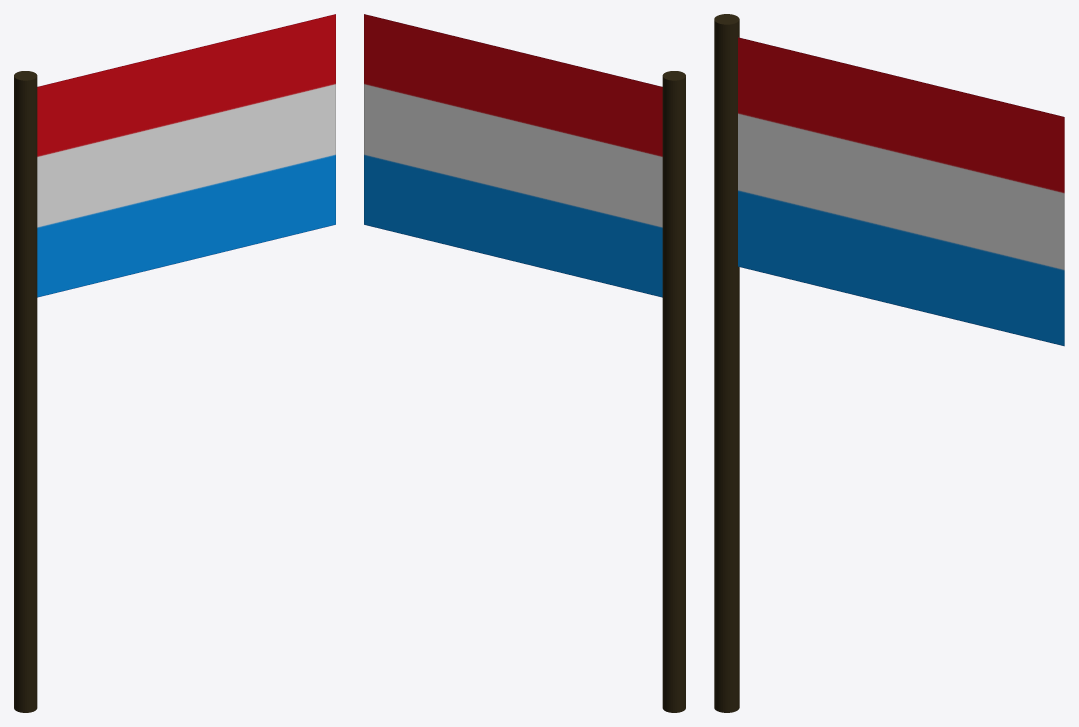
The model's file is Luxembourgh.glb.
The picture shows the model from 3 angles, left to right: view 1: azimuth 30°, elevation 25°; view 2: azimuth 150°, elevation 25°; view 3: azimuth 330°, elevation 25°; orthographic projection. The views are drawn at different scales.
Parts seen in each view (by area): view 1: Plane, Cylinder; view 2: Plane, Cylinder; view 3: Plane, Cylinder.
Boxes of the visible parts, <box> form: Plane: <box>37,14,335,297</box>; Cylinder: <box>14,71,37,712</box>; Plane: <box>364,14,662,297</box>; Cylinder: <box>662,71,685,712</box>; Plane: <box>738,37,1064,346</box>; Cylinder: <box>714,14,739,712</box>.
Bounding box in the file's own units: 3.18 × 6 × 0.2.
2 materials, 1 textured.
